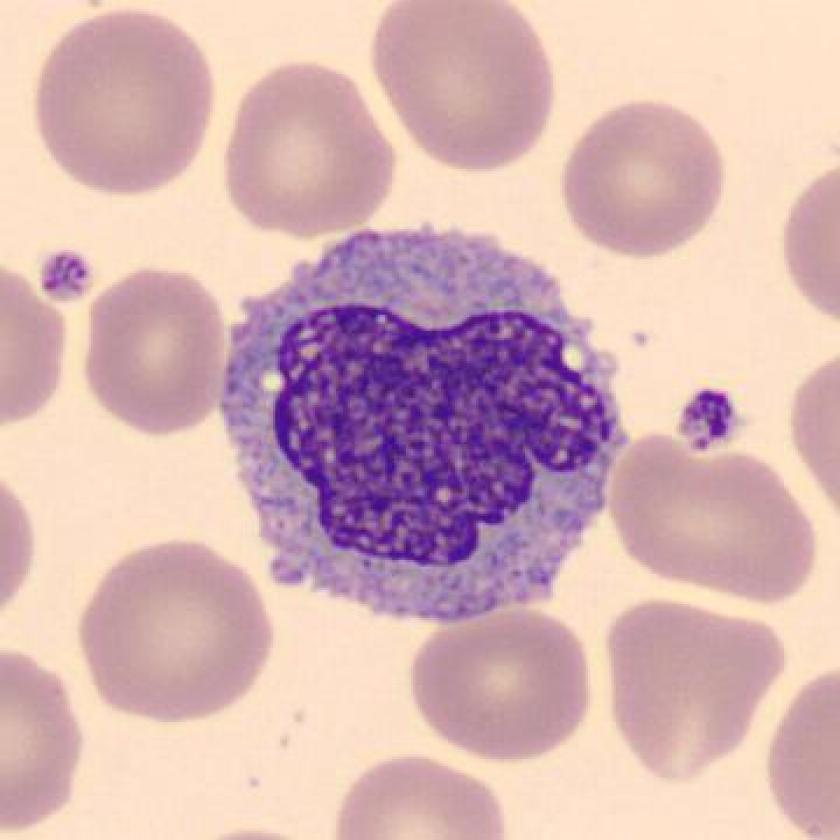monocyte: (204, 198, 650, 640)
